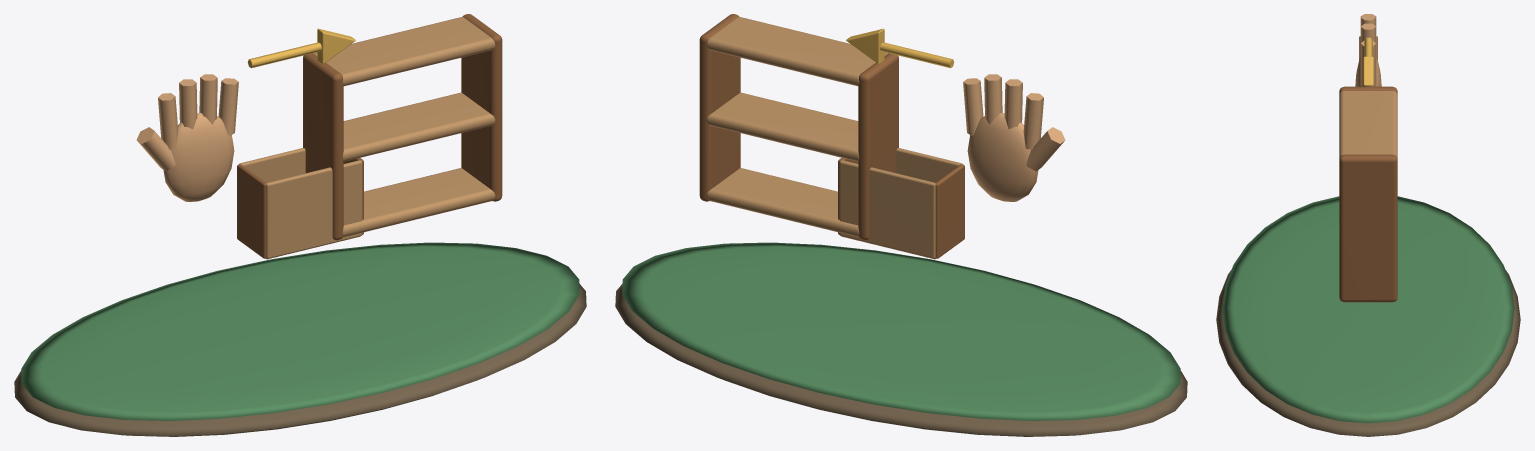
The model's file is complete-second-hand-sorting-move.glb.
3 views of the same model, side by side, from view 1: azimuth 30°, elevation 25°; view 2: azimuth 150°, elevation 25°; view 3: azimuth 270°, elevation 25° (orthographic). The views are drawn at different scales.
Visible parts, largest first — view 1: complete-second-hand-sorting-move_surface_01, complete-second-hand-sorting-move_surface_03, complete-second-hand-sorting-move_surface_04, complete-second-hand-sorting-move_surface_00, complete-second-hand-sorting-move_surface_02, complete-second-hand-sorting-move_surface_05; view 2: complete-second-hand-sorting-move_surface_01, complete-second-hand-sorting-move_surface_03, complete-second-hand-sorting-move_surface_04, complete-second-hand-sorting-move_surface_00, complete-second-hand-sorting-move_surface_02, complete-second-hand-sorting-move_surface_05; view 3: complete-second-hand-sorting-move_surface_01, complete-second-hand-sorting-move_surface_04, complete-second-hand-sorting-move_surface_00, complete-second-hand-sorting-move_surface_03, complete-second-hand-sorting-move_surface_02, complete-second-hand-sorting-move_surface_05.
Boxes of the visible parts, bbox=[...] form: complete-second-hand-sorting-move_surface_01: bbox=[21, 242, 579, 420]; complete-second-hand-sorting-move_surface_03: bbox=[239, 17, 495, 258]; complete-second-hand-sorting-move_surface_04: bbox=[237, 14, 502, 259]; complete-second-hand-sorting-move_surface_00: bbox=[14, 284, 586, 436]; complete-second-hand-sorting-move_surface_02: bbox=[136, 74, 238, 201]; complete-second-hand-sorting-move_surface_05: bbox=[247, 28, 355, 68]; complete-second-hand-sorting-move_surface_01: bbox=[622, 242, 1180, 420]; complete-second-hand-sorting-move_surface_03: bbox=[706, 17, 962, 258]; complete-second-hand-sorting-move_surface_04: bbox=[699, 14, 964, 259]; complete-second-hand-sorting-move_surface_00: bbox=[615, 284, 1187, 436]; complete-second-hand-sorting-move_surface_02: bbox=[963, 74, 1065, 201]; complete-second-hand-sorting-move_surface_05: bbox=[846, 28, 954, 68]; complete-second-hand-sorting-move_surface_01: bbox=[1222, 196, 1514, 423]; complete-second-hand-sorting-move_surface_04: bbox=[1339, 86, 1397, 302]; complete-second-hand-sorting-move_surface_00: bbox=[1216, 270, 1520, 436]; complete-second-hand-sorting-move_surface_03: bbox=[1339, 91, 1397, 158]; complete-second-hand-sorting-move_surface_02: bbox=[1355, 14, 1381, 86]; complete-second-hand-sorting-move_surface_05: bbox=[1363, 37, 1373, 85].
Bounding box in the file's own units: 4.56 × 2.59 × 2.5.
